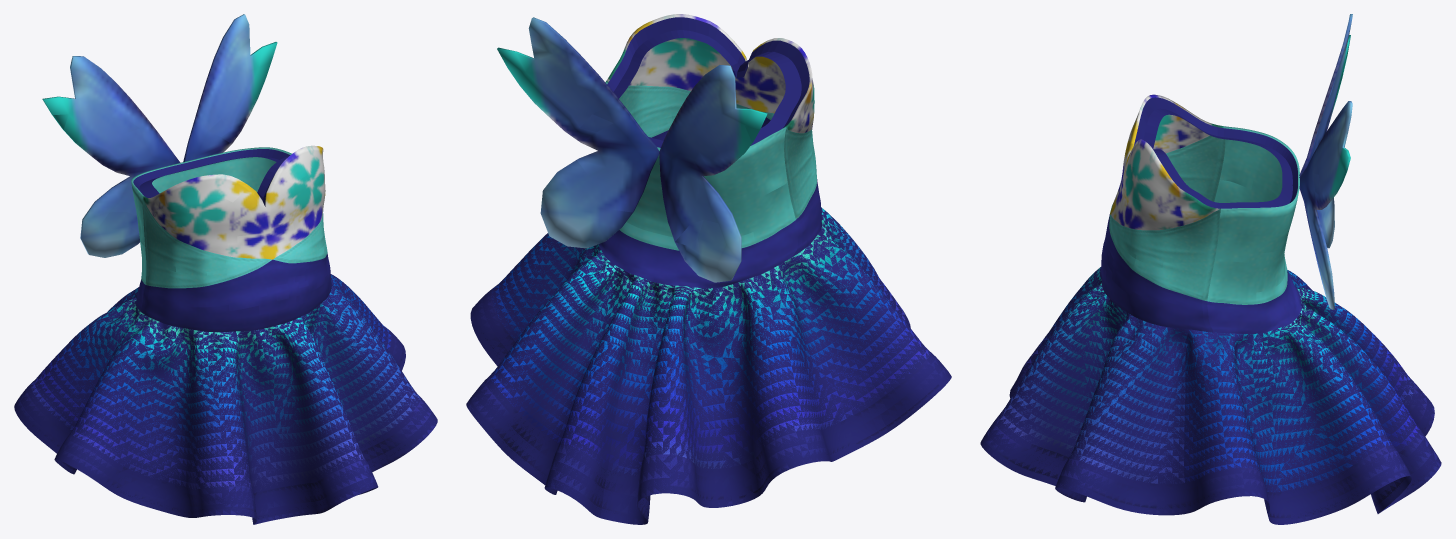
File: dress8.glb
3 views of the same model, side by side, from view 1: azimuth 30°, elevation 25°; view 2: azimuth 150°, elevation 25°; view 3: azimuth 270°, elevation 25° (orthographic). The views are drawn at different scales.
Parts seen in each view (by area): view 1: s4studio_mesh_1; view 2: s4studio_mesh_1; view 3: s4studio_mesh_1.
Boxes of the visible parts, x1,y1,x2,y2 form: s4studio_mesh_1: [14, 14, 437, 524]; s4studio_mesh_1: [466, 14, 951, 524]; s4studio_mesh_1: [980, 14, 1441, 524].
Size of the model in its own units: 0.3918 by 0.4039 by 0.3862.
Materials: 1 (1 with a texture image).
